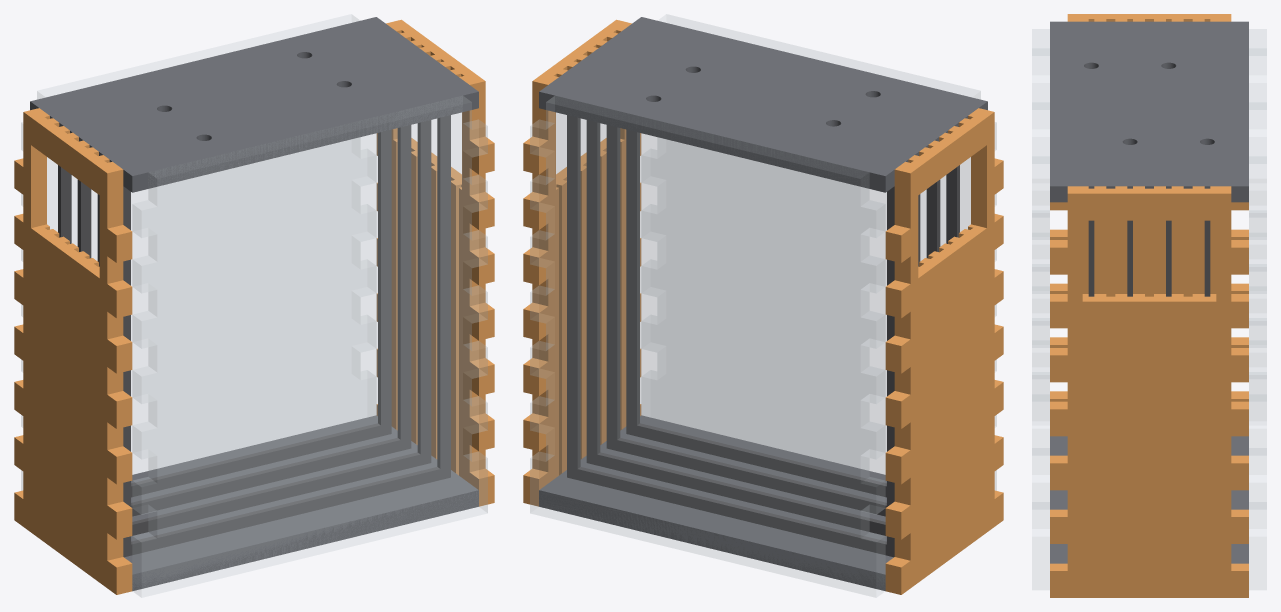
The model's file is electrolyzer.glb.
The picture shows the model from 3 angles, left to right: view 1: azimuth 30°, elevation 25°; view 2: azimuth 150°, elevation 25°; view 3: azimuth 270°, elevation 25°; orthographic projection. The views are drawn at different scales.
Visible parts, largest first — view 1: Wall_2, Wall_3, Holder_4, Lid_1, Holder_5, Bottom_0, Frame_6, Frame_8, Frame_7, Frame_9; view 2: Wall_3, Wall_2, Holder_4, Lid_1, Holder_5, Bottom_0, Frame_9, Frame_7, Frame_8, Frame_6; view 3: Holder_5, Lid_1, Holder_4, Wall_2, Wall_3, Bottom_0, Frame_6, Frame_9, Frame_7, Frame_8.
Part boxes in pixels (x1,y1,x2,y2): Wall_2: (132, 96, 487, 597); Wall_3: (21, 14, 375, 490); Holder_4: (14, 108, 132, 594); Lid_1: (30, 17, 478, 192); Holder_5: (376, 19, 494, 506); Bottom_0: (124, 415, 478, 591); Frame_6: (123, 115, 450, 557); Frame_8: (77, 125, 411, 516); Frame_7: (97, 120, 431, 535); Frame_9: (58, 129, 391, 497); Wall_3: (530, 96, 885, 597); Wall_2: (642, 14, 996, 490); Holder_4: (885, 108, 1003, 594); Lid_1: (539, 17, 987, 192); Holder_5: (523, 19, 641, 506); Bottom_0: (539, 415, 893, 591); Frame_9: (567, 115, 894, 557); Frame_7: (606, 125, 940, 516); Frame_8: (586, 120, 920, 535); Frame_6: (626, 129, 959, 497); Holder_5: (1050, 186, 1248, 597); Lid_1: (1050, 21, 1248, 202); Holder_4: (1050, 14, 1248, 401); Wall_2: (1032, 29, 1049, 589); Wall_3: (1249, 29, 1266, 589); Bottom_0: (1050, 436, 1248, 563); Frame_6: (1088, 220, 1094, 296); Frame_9: (1204, 220, 1210, 296); Frame_7: (1127, 220, 1132, 296); Frame_8: (1166, 220, 1171, 296).
Size of the model in its own units: 0.286 by 0.3 by 0.158.
